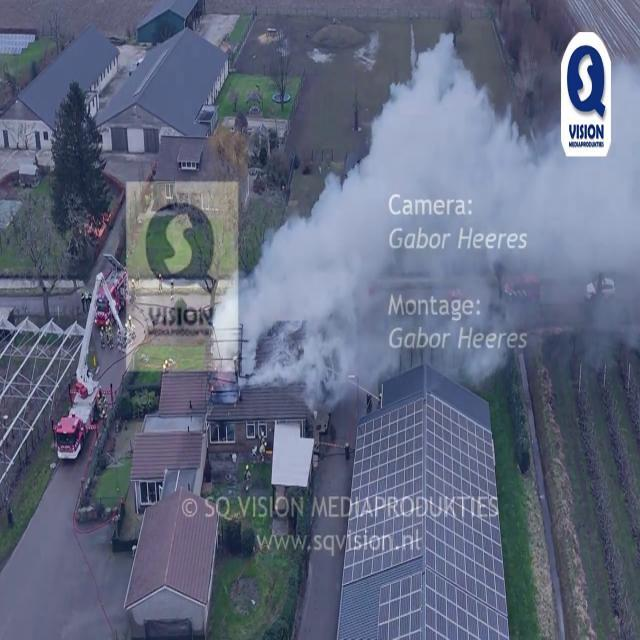Smoke: (224, 5, 633, 400)
